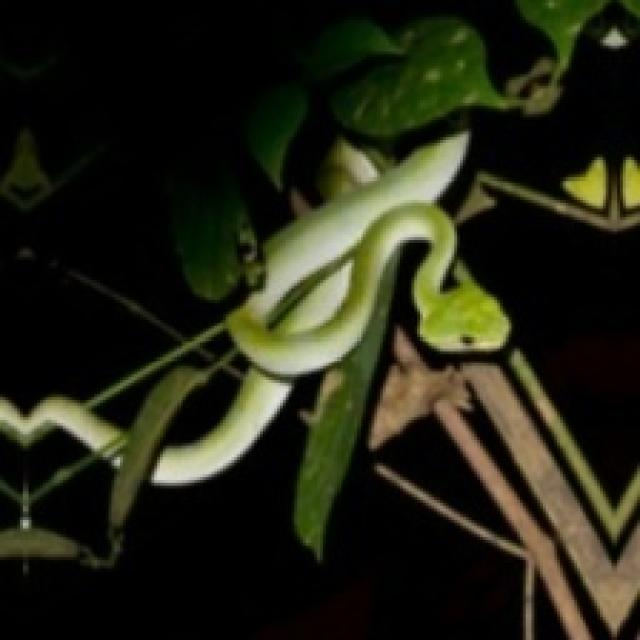north ph temple pitviper: (0, 131, 509, 546)
